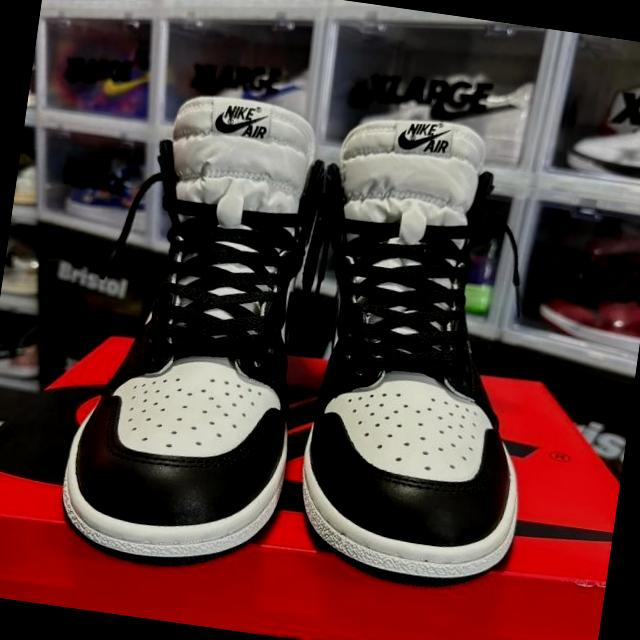nike_original_jordan: (59, 84, 345, 586), (280, 112, 570, 600)
